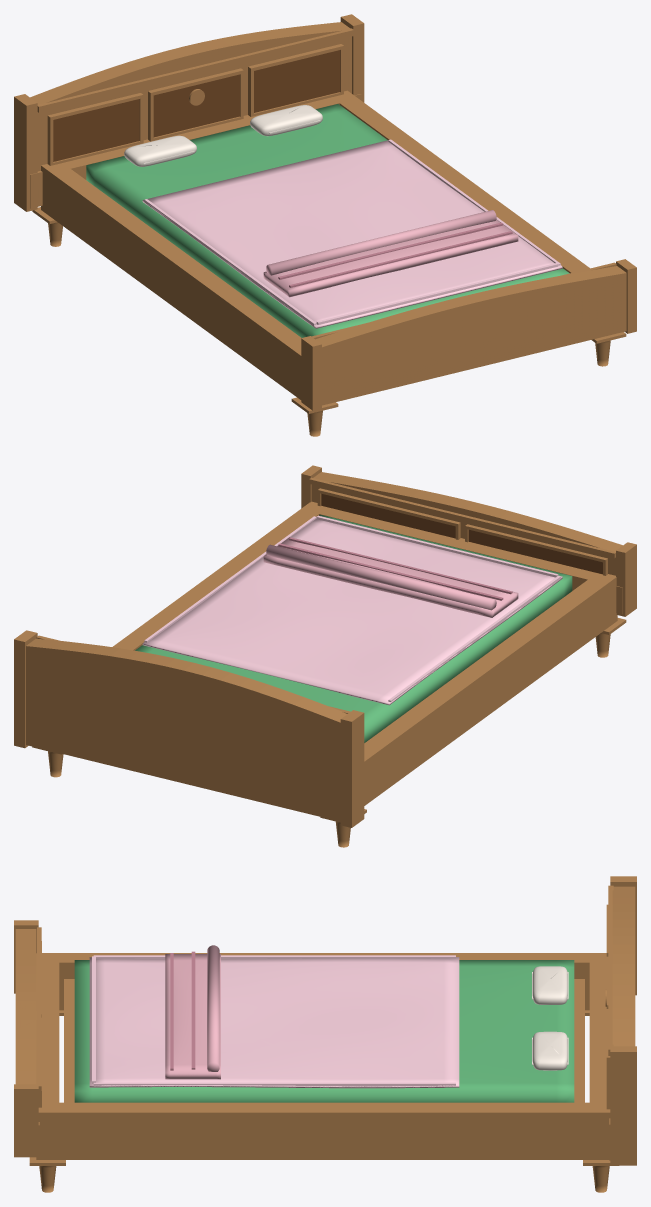
3 views of the same model, one above another, from view 1: azimuth 30°, elevation 25°; view 2: azimuth 150°, elevation 25°; view 3: azimuth 270°, elevation 25° (orthographic). The views are drawn at different scales.
Visible parts, largest first — view 1: light_pink_blanket, decorative_headboard, decorative_footboard, wooden_bed_frame_base, green_mattress, folded_comforter, pillow, tapered_leg; view 2: decorative_headboard, light_pink_blanket, wooden_bed_frame_base, decorative_footboard, folded_comforter, green_mattress, tapered_leg; view 3: wooden_bed_frame_base, light_pink_blanket, green_mattress, decorative_headboard, folded_comforter, decorative_footboard, pillow, tapered_leg.
Part boxes in pixels (x1,y1,x2,y2): light_pink_blanket: (142,139,562,328); decorative_headboard: (14,14,364,211); decorative_footboard: (301,259,636,410); wooden_bed_frame_base: (32,90,626,413); green_mattress: (86,104,569,337); folded_comforter: (263,210,518,297); pillow: (124,105,322,166); tapered_leg: (48,222,610,436); decorative_headboard: (14,630,364,827); light_pink_blanket: (142,515,562,705); wooden_bed_frame_base: (32,501,626,822); decorative_footboard: (301,465,636,616); folded_comforter: (263,537,518,617); green_mattress: (135,514,572,742); tapered_leg: (48,633,610,847); wooden_bed_frame_base: (29,953,618,1165); light_pink_blanket: (89,955,459,1088); green_mattress: (74,960,574,1102); decorative_headboard: (605,876,636,1165); folded_comforter: (165,945,220,1079); decorative_footboard: (14,920,41,1157); pillow: (532,966,568,1070); tapered_leg: (39,1166,609,1192).
Size of the model in its own units: 10.05 by 4.3 by 15.04.
